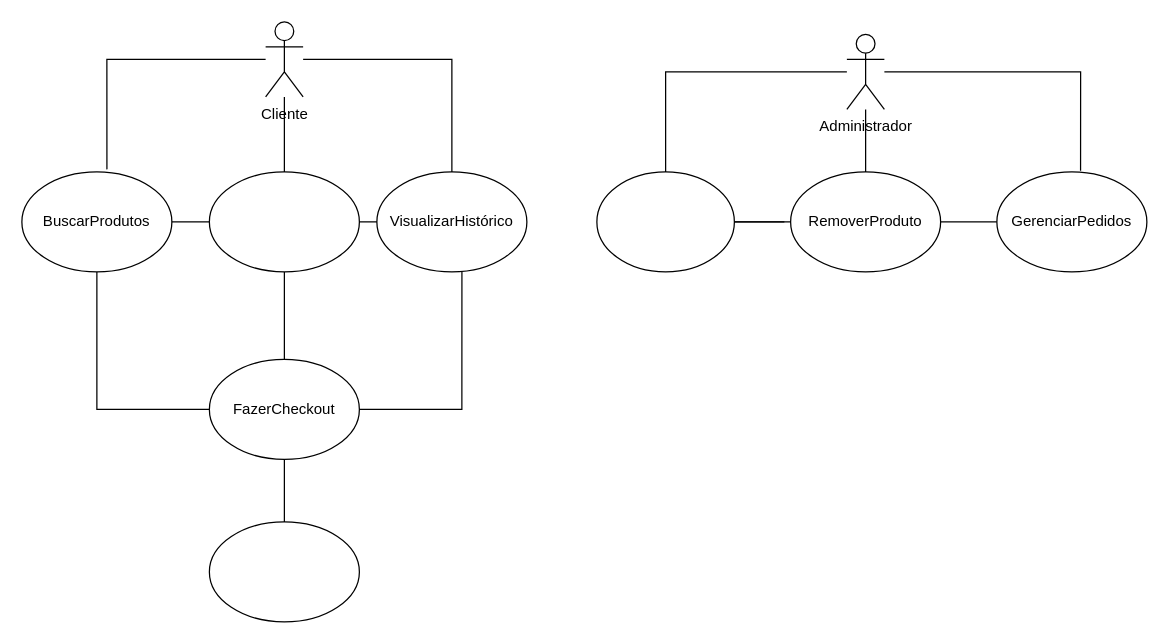
Image size: 1169x644. Some labels were removed from this diagram. The shapes that lost their labels are listed below. From the top down, each one's centre as x and y in pixels, then its label:
the point at 283,221: AdicionarAoCarrinho
the point at 665,221: AdicionarProduto
the point at 283,571: SistemaDePagamento
